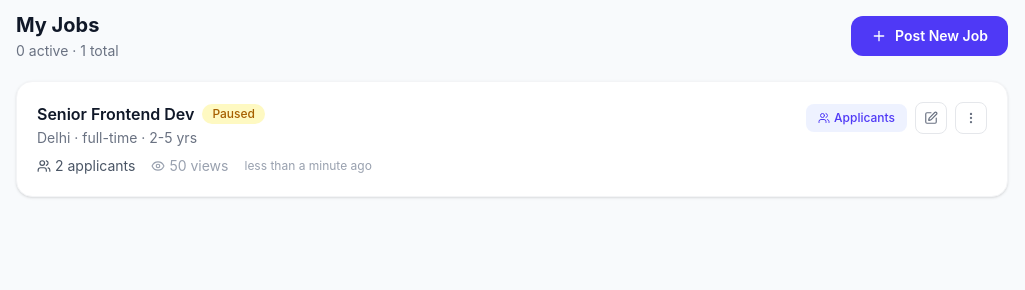
MyJobs › shows Activate button for paused job in dropdown
Expected: the heading "Senior Frontend Dev" is shown, [37,102,194,126]
Click the button: [971, 118] box [955,102,987,134]
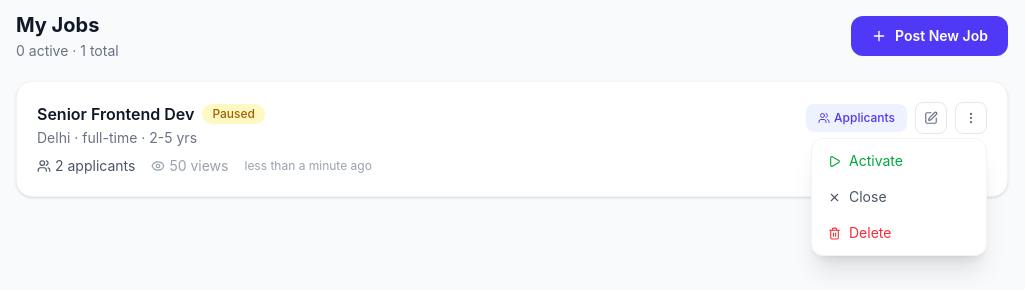
Now the button "Activate" is shown, box [812,143,986,179]
